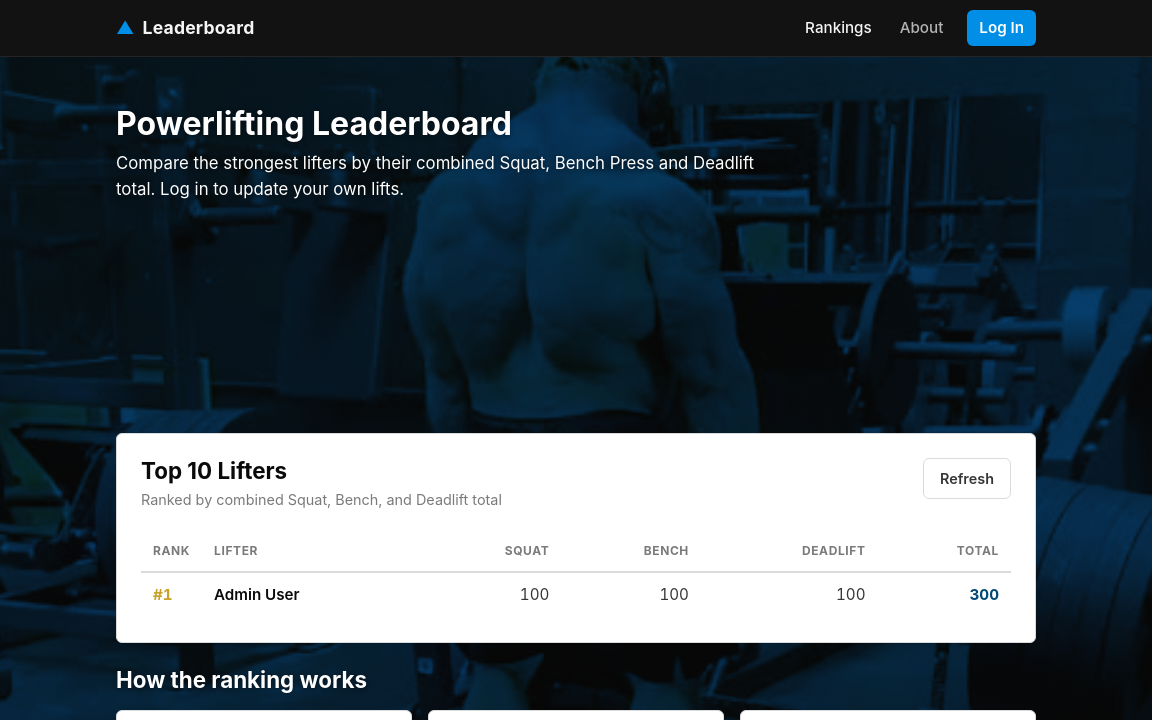
Test case: Admin visibility › shows the User Management panel on the profile page after an Admin-role login
Check: the text "Admin User" is shown, box [214,585,300,604]
Click the link "Log In".
click(1002, 28)  # box [967,10,1036,46]
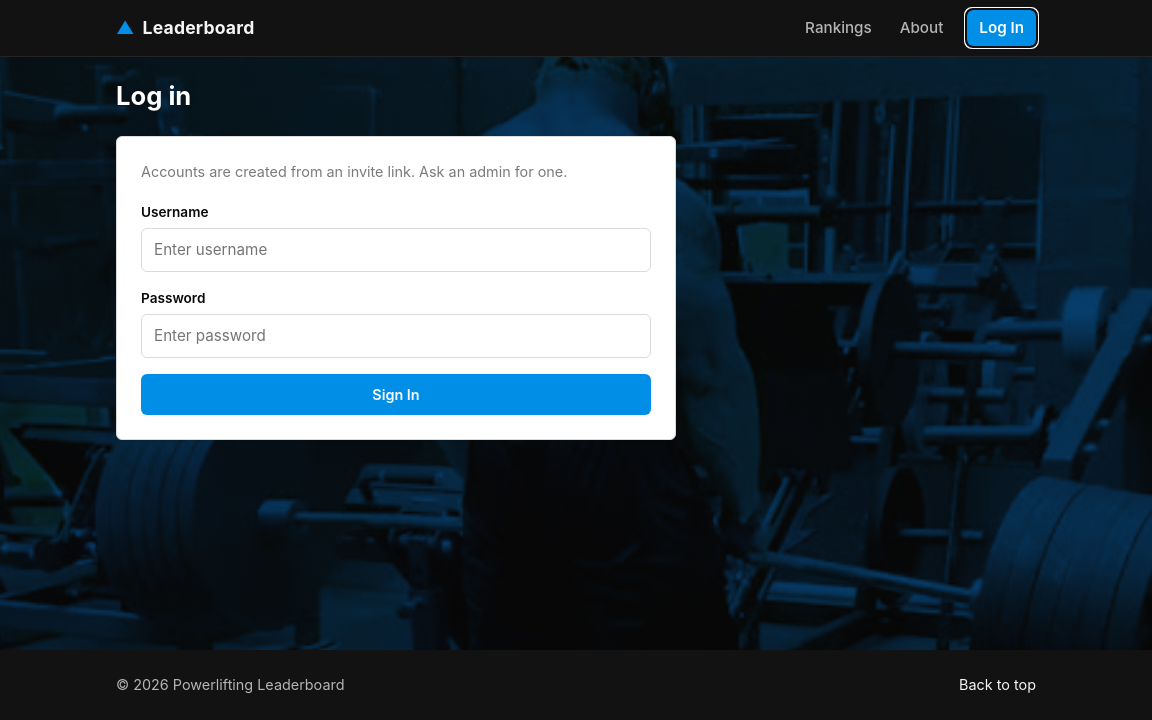
Type "adminuser" into the field labelled "Username".
click(396, 250); type("adminuser")  # box [141,228,651,272]
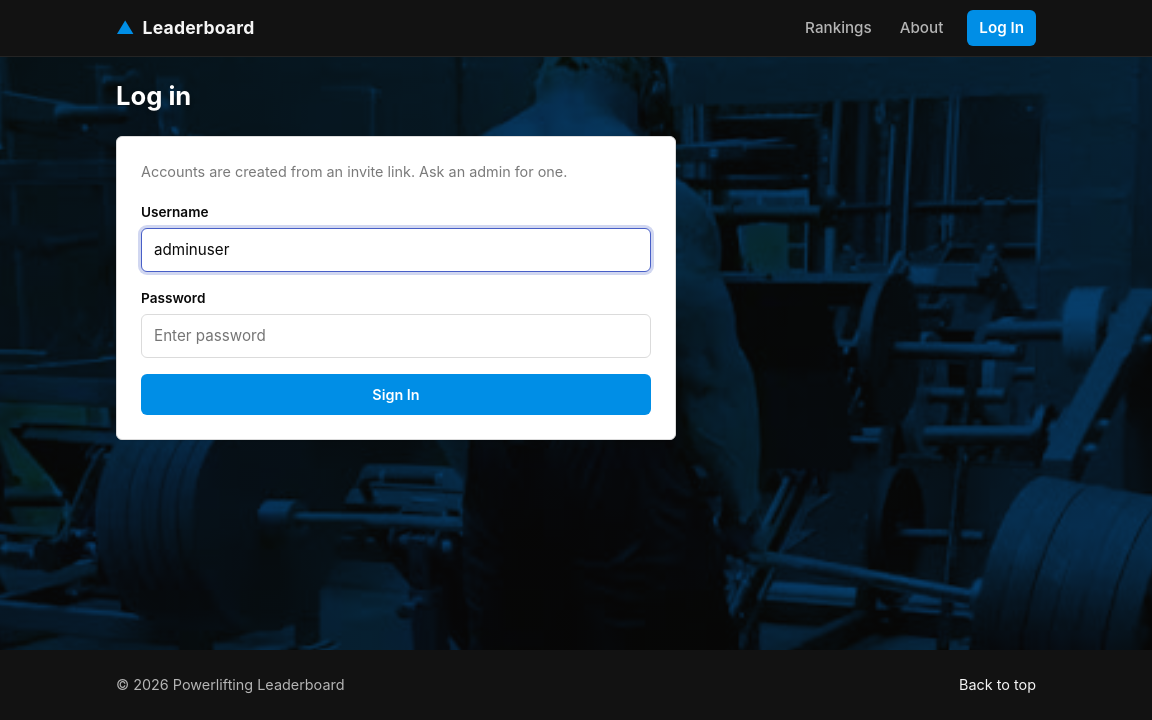
Type "secret123" into the password field labelled "Password".
click(396, 336); type("secret123")  # box [141,314,651,358]
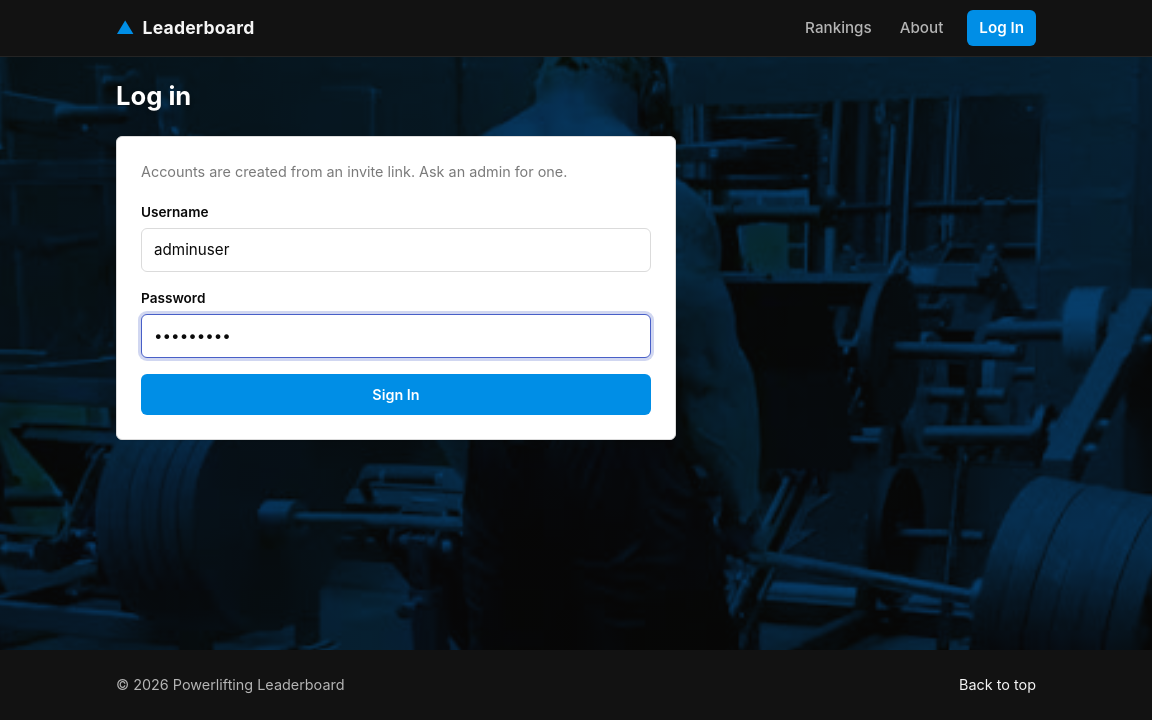
Click the button "Sign In".
click(396, 395)  # box [141,374,651,415]
(page scrolled)
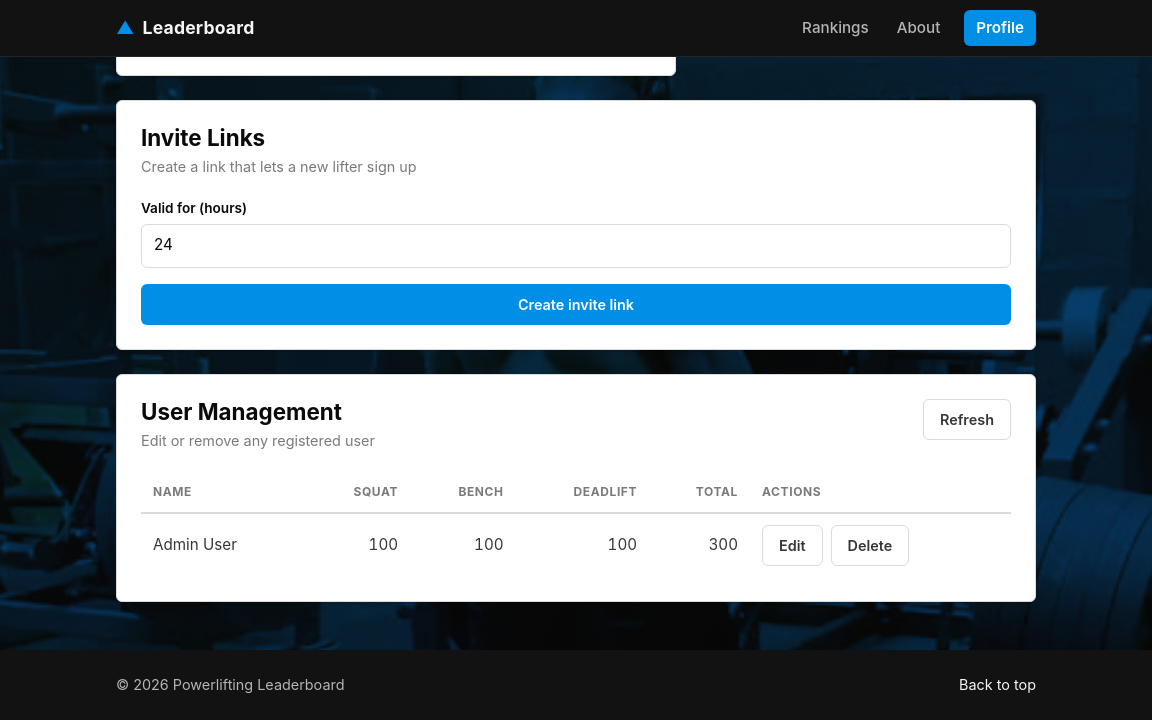
Check: the heading "User Management" is shown, box [141,399,375,426]
